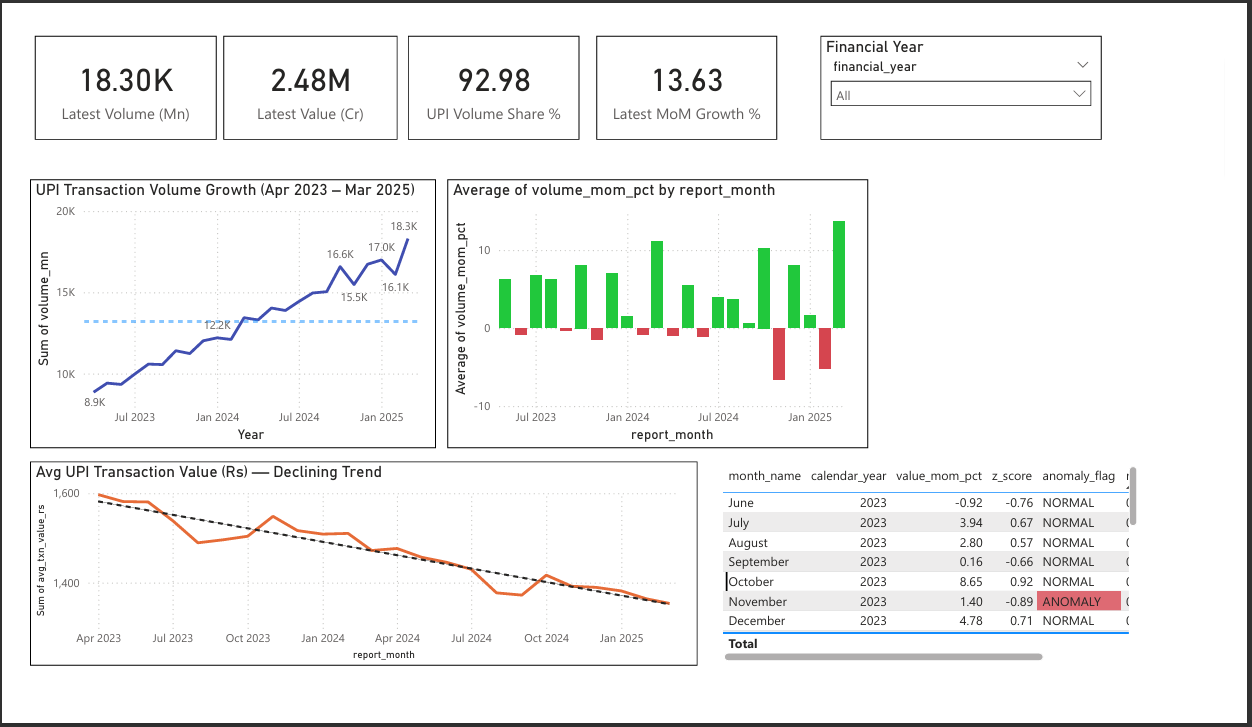

The dashboard page shown, as its layout file describes it:
{"tool":"powerbi","page":{"name":"UPI Growth","canvas":[1280,720],"ordinal":0},"visuals":[{"type":"card","fields":{"Values":["public fact_upi_monthly.Latest Volume (Mn)"]},"box":[10.8,10.8,194.6,111.2],"z":0},{"type":"card","fields":{"Values":["public fact_upi_monthly.Latest Value (Cr)"]},"box":[211.6,10.8,186.9,111.2],"z":1000},{"type":"card","fields":{"Values":["public fact_upi_monthly.UPI Volume Share %"]},"box":[409.3,10.8,182.2,111.2],"z":2000},{"type":"card","fields":{"Values":["public fact_upi_monthly.Latest MoM Growth %"]},"box":[610,10.8,193.1,111.2],"z":3000},{"type":"lineChart","title":"UPI Transaction Volume Growth (Apr 2023 – Mar 2025)","fields":{"Y":["Sum(public fact_upi_monthly.volume_mn)"],"Category":["public dim_date.report_month.Variation.Date Hierarchy.Year","public dim_date.report_month.Variation.Date Hierarchy.Quarter","public dim_date.report_month.Variation.Date Hierarchy.Month","public dim_date.report_month.Variation.Date Hierarchy.Day"]},"box":[6.2,163.7,432.4,287.3],"z":4000},{"type":"clusteredColumnChart","fields":{"Category":["public dim_date.report_month"],"Y":["Avg(public fact_upi_monthly.volume_mom_pct)"]},"box":[451,163.7,449.4,287.3],"z":5000},{"type":"lineChart","title":"Avg UPI Transaction Value (Rs) — Declining Trend","fields":{"Y":["Sum(public fact_upi_monthly.avg_txn_value_rs)"],"Category":["public dim_date.report_month"]},"box":[6.2,464.9,712,217.8],"z":6000},{"type":"slicer","title":"Financial Year","fields":{"Values":["public dim_date.financial_year"]},"box":[849.4,10.8,299.6,111.2],"z":7000},{"type":"tableEx","fields":{"Values":["public anomaly_results.month_name","public anomaly_results.calendar_year","public anomaly_results.value_mom_pct","public anomaly_results.z_score","public anomaly_results.anomaly_flag","public anomaly_results.report_month"]},"box":[739.8,464.9,452.5,217.8],"z":8000}]}

Visuals, with their boxes on the page's 1280x720 design canvas (x1, y1, x2, y2). These are canvas units, not pixel positions in the 1252x727 screenshot, which may show the page scaled, cropped or inside an application window:
card - public fact_upi_monthly.Latest Volume (Mn): Rect(11, 11, 205, 122)
card - public fact_upi_monthly.Latest Value (Cr): Rect(212, 11, 398, 122)
card - public fact_upi_monthly.UPI Volume Share %: Rect(409, 11, 592, 122)
card - public fact_upi_monthly.Latest MoM Growth %: Rect(610, 11, 803, 122)
"UPI Transaction Volume Growth (Apr 2023 – Mar 2025)" lineChart: Rect(6, 164, 439, 451)
clusteredColumnChart - public dim_date.report_month x Avg(public fact_upi_monthly.volume_mom_pct): Rect(451, 164, 900, 451)
"Avg UPI Transaction Value (Rs) — Declining Trend" lineChart: Rect(6, 465, 718, 683)
"Financial Year" slicer: Rect(849, 11, 1149, 122)
tableEx - public anomaly_results.month_name x public anomaly_results.calendar_year: Rect(740, 465, 1192, 683)
